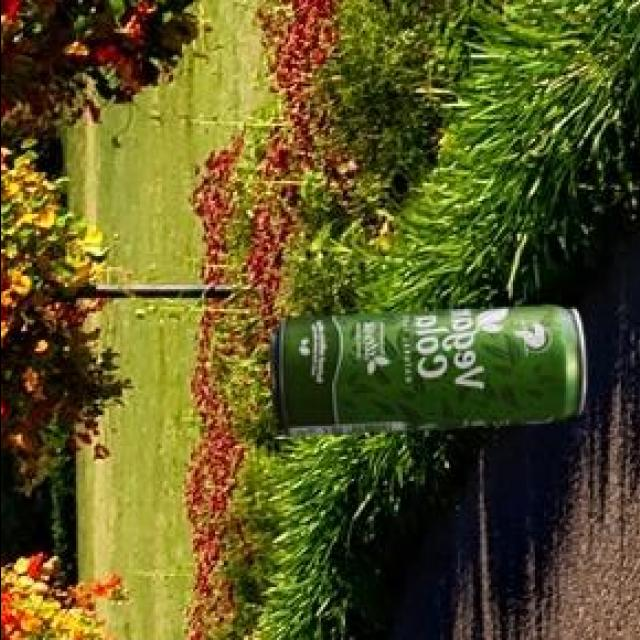logam: (266, 301, 582, 431)
